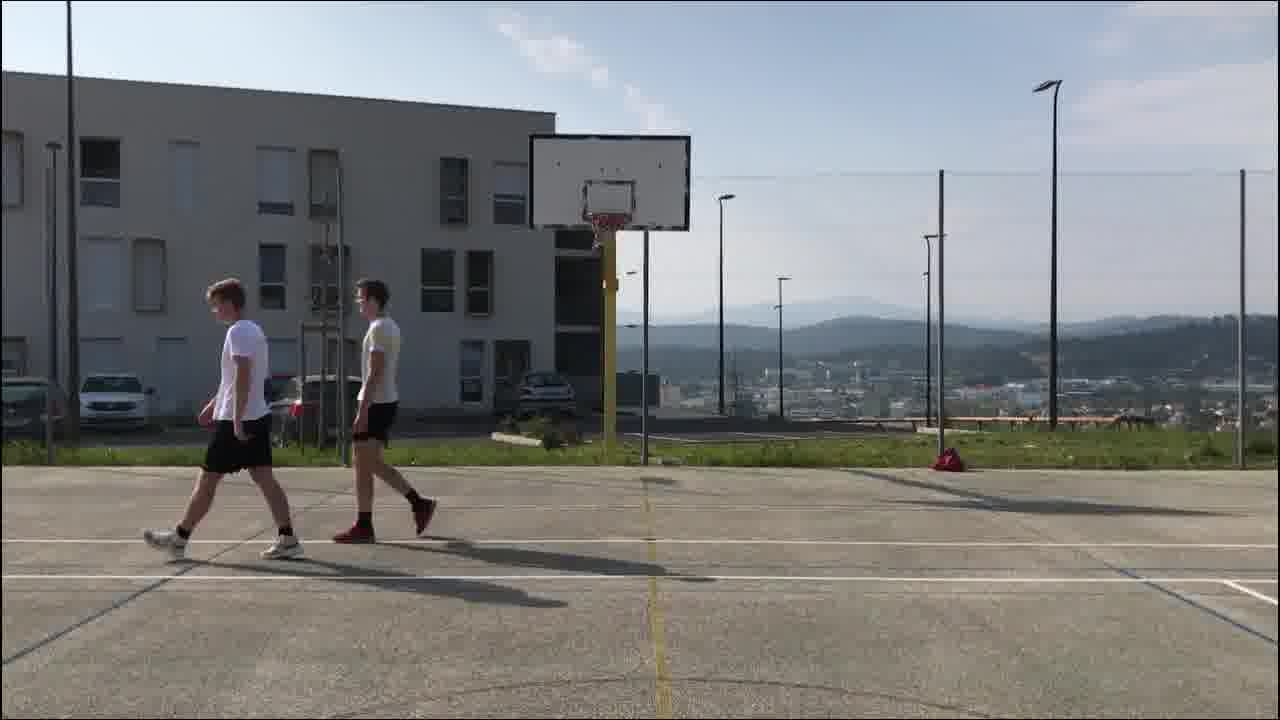jugador: (323, 267, 453, 554)
